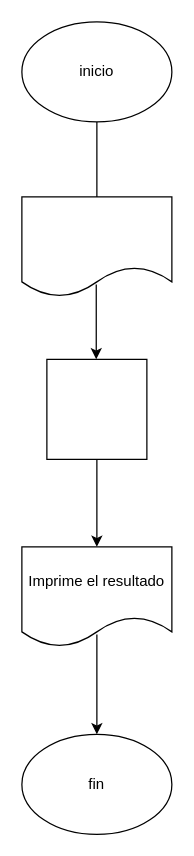
This 194x856 diagram has some shape labels left out. The shapes that lost their labels are listed below. From the top down, each one's box as (x1, y1, x2, y2) in pixels, then its label:
(21, 196, 172, 297): x = 16 y = 2 z = 20
(46, 358, 147, 459): (x + y + z) / 3
